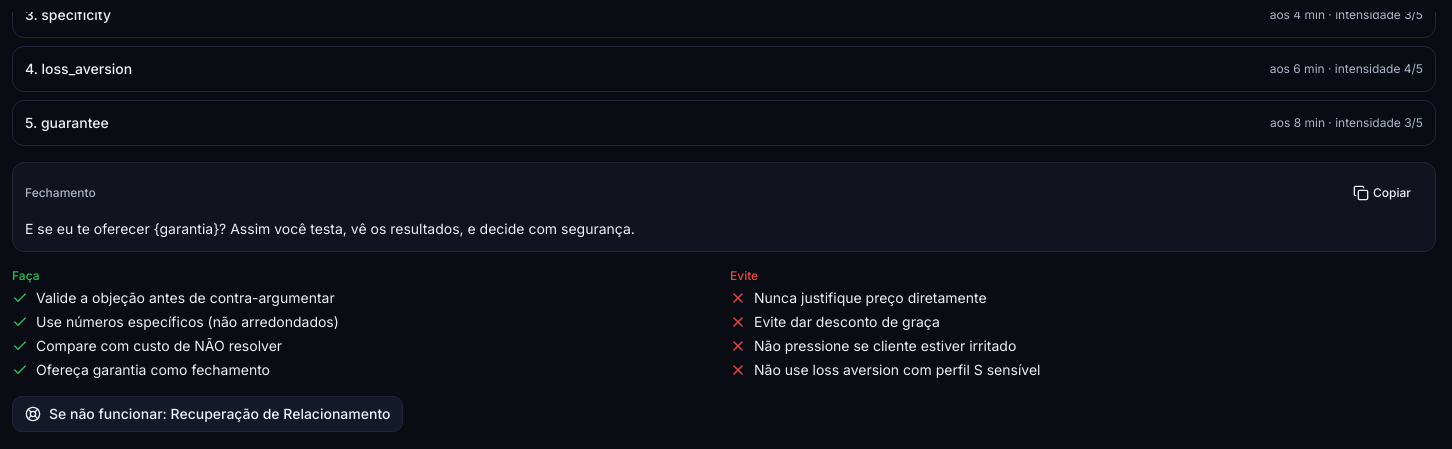
BundlesTab › leva ao roteiro reserva pelo botão "Se não funcionar"
(page scrolled)
Step 1. Click the button "Se não funcionar: Recuperação de Relacionamento" → [208, 414], box [12,396,404,432]
(page scrolled)
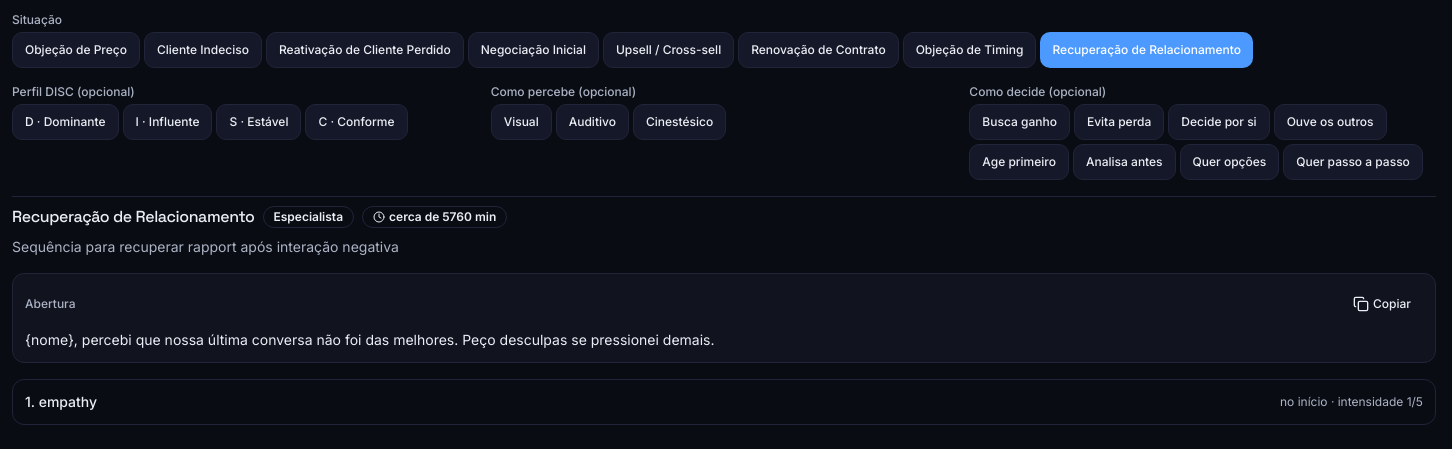
Check: the heading "Recuperação de Relacionamento" is shown, box [12,205,254,229]
